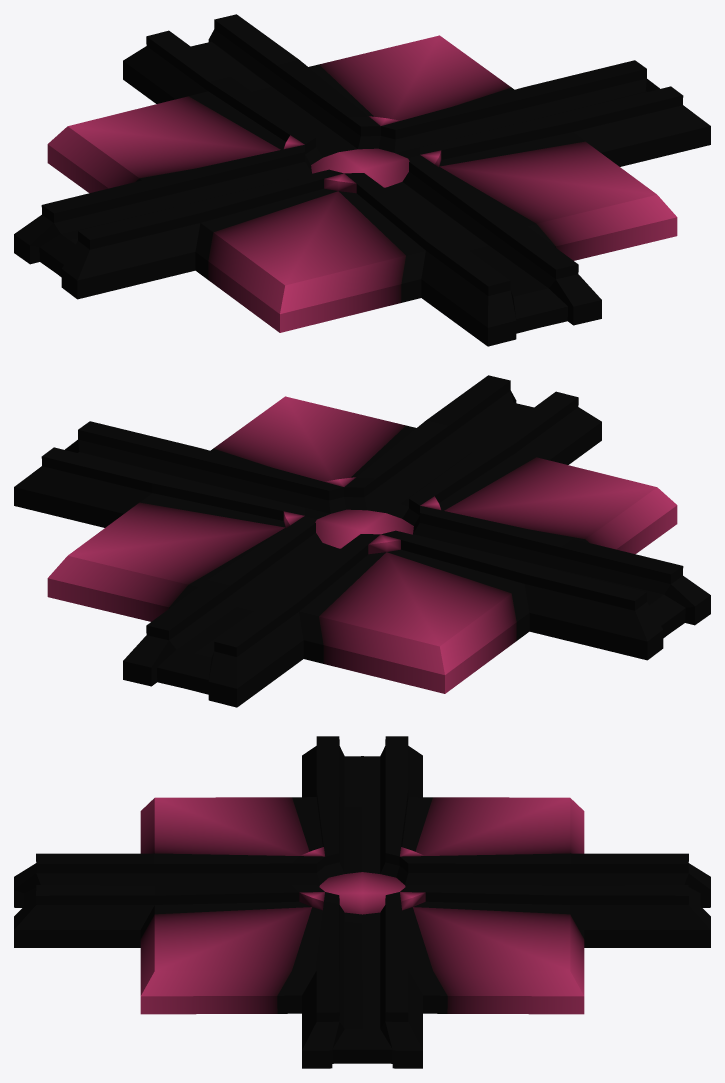
The model's file is Turret_spot.fbx.
3 renders of one model, top to bottom at view 1: azimuth 30°, elevation 25°; view 2: azimuth 150°, elevation 25°; view 3: azimuth 270°, elevation 25°, orthographic. The views are drawn at different scales.
Parts seen in each view (by area): view 1: TURRET_SLOT_LOW; view 2: TURRET_SLOT_LOW; view 3: TURRET_SLOT_LOW.
Part boxes in pixels (x1,y1,x2,y2): TURRET_SLOT_LOW: (14, 14, 710, 346); TURRET_SLOT_LOW: (14, 375, 710, 707); TURRET_SLOT_LOW: (14, 736, 710, 1068).
Bounding box in the file's own units: 272 × 20.44 × 271.
